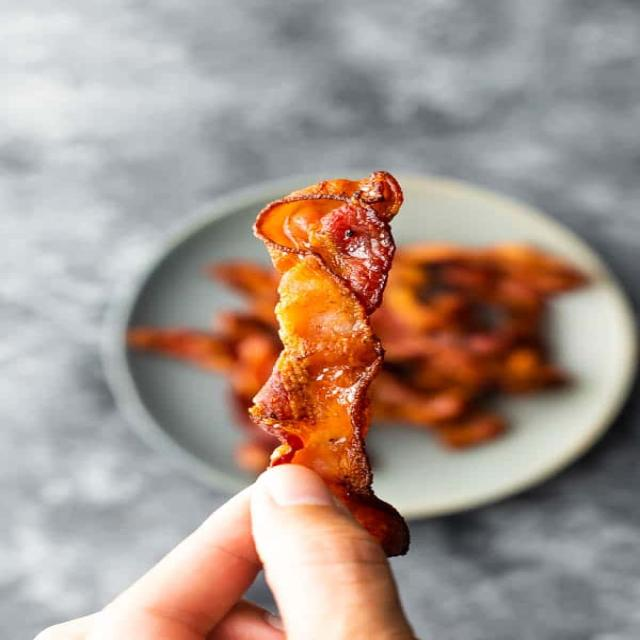Bacon: (249, 171, 409, 556)
